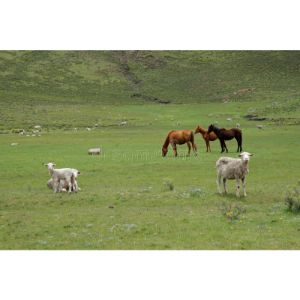horse: (206, 123, 245, 153), (160, 129, 198, 159), (194, 123, 208, 147)
sheep: (214, 152, 254, 199), (44, 160, 82, 195)
